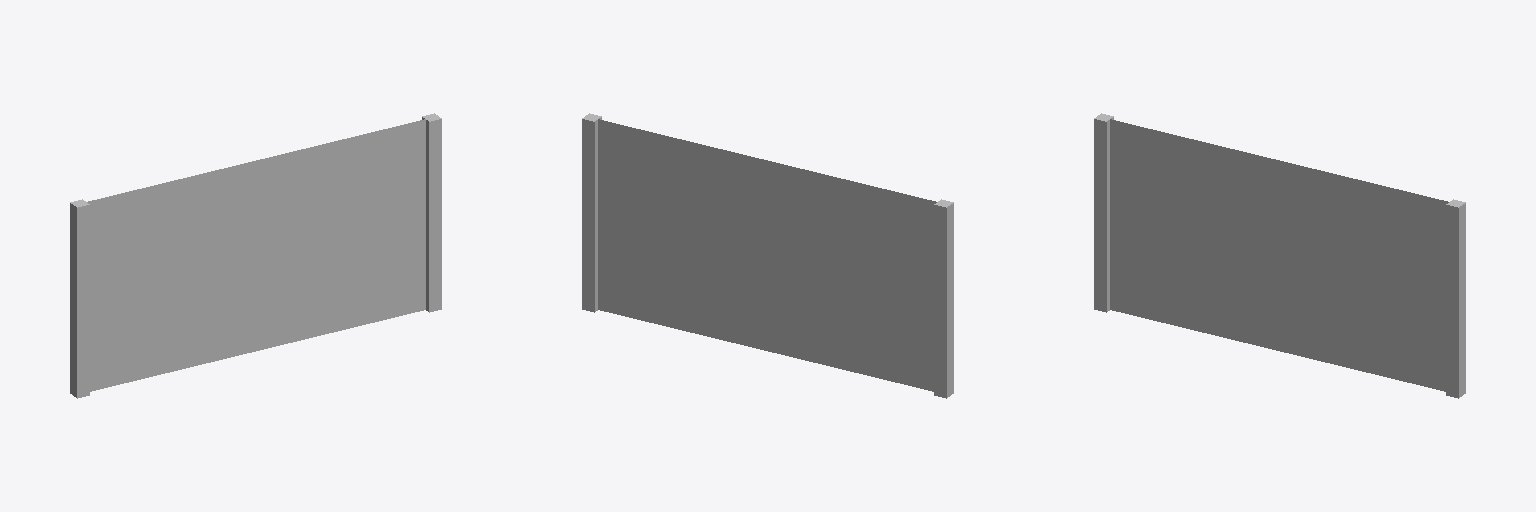
Rendered from fenceStraight.obj.
3 views of the same model, side by side, from view 1: azimuth 30°, elevation 25°; view 2: azimuth 150°, elevation 25°; view 3: azimuth 330°, elevation 25° (orthographic).
Parts seen in each view (by area): view 1: fenceStraight; view 2: fenceStraight; view 3: fenceStraight.
Part boxes in pixels (x1,y1,x2,y2): fenceStraight: (70,113,441,398); fenceStraight: (582,113,953,398); fenceStraight: (1094,113,1465,398).
Bounding box in the file's own units: 1 × 0.5 × 0.0345.